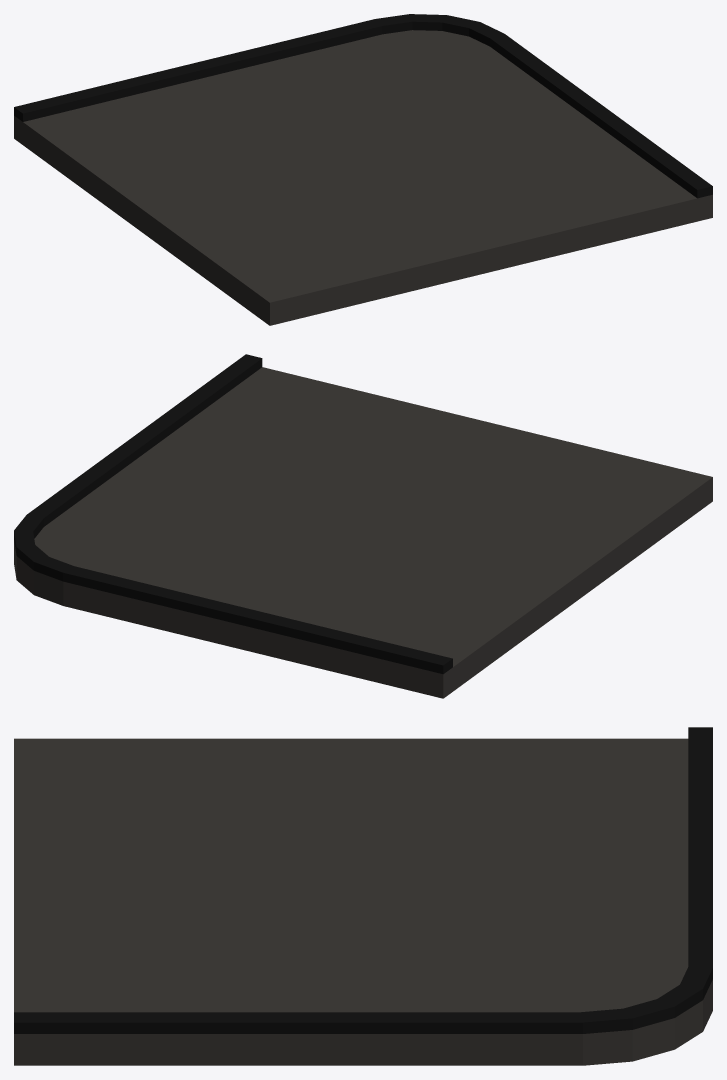
File: SM_Factory_Ground_02.glb
3 views of the same model, one above another, from view 1: azimuth 30°, elevation 25°; view 2: azimuth 150°, elevation 25°; view 3: azimuth 270°, elevation 25° (orthographic). The views are drawn at different scales.
Visible parts, largest first — view 1: SM_Factory_Ground_02; view 2: SM_Factory_Ground_02; view 3: SM_Factory_Ground_02.
Part boxes in pixels (box(x1,y1,x2,y2)): SM_Factory_Ground_02: box(14, 14, 712, 325); SM_Factory_Ground_02: box(14, 354, 712, 698); SM_Factory_Ground_02: box(14, 727, 712, 1065).
Bounding box in the file's own units: 5 × 0.3407 × 5.
1 material, 1 textured.
